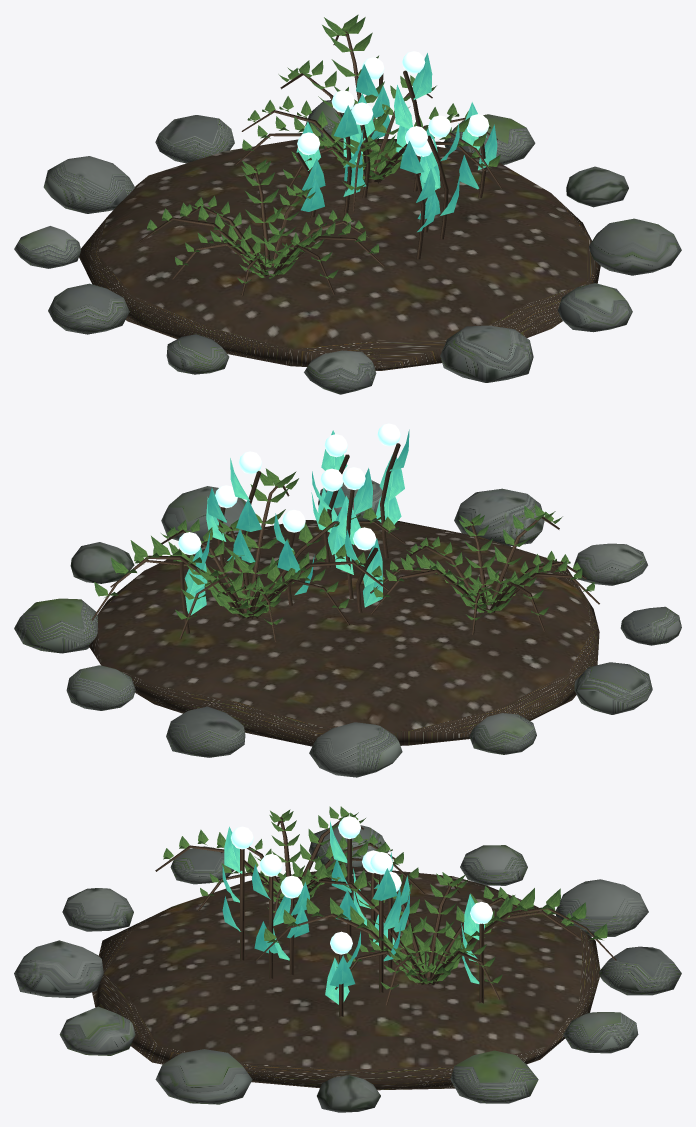
File: gather_herb_point.glb
3 renders of one model, top to bottom at view 1: azimuth 30°, elevation 25°; view 2: azimuth 150°, elevation 25°; view 3: azimuth 270°, elevation 25°, orthographic.
Visible parts, largest first — view 1: gather_herb_point__soil, gather_herb_point__stone_block, gather_herb_point__leaf, gather_herb_point__root, gather_herb_point__leaf_glow, gather_herb_point__glow_core; view 2: gather_herb_point__soil, gather_herb_point__stone_block, gather_herb_point__leaf, gather_herb_point__root, gather_herb_point__leaf_glow, gather_herb_point__glow_core; view 3: gather_herb_point__soil, gather_herb_point__stone_block, gather_herb_point__leaf, gather_herb_point__root, gather_herb_point__leaf_glow, gather_herb_point__glow_core.
Boxes of the visible parts, x1,y1,x2,y2 form: gather_herb_point__soil: (79,139,600,370); gather_herb_point__stone_block: (14,100,681,394); gather_herb_point__leaf: (147,14,500,283); gather_herb_point__root: (139,31,501,296); gather_herb_point__leaf_glow: (295,53,497,232); gather_herb_point__glow_core: (297,51,489,156); gather_herb_point__soil: (89,520,599,746); gather_herb_point__stone_block: (14,480,681,777); gather_herb_point__leaf: (94,468,594,624); gather_herb_point__root: (91,443,599,641); gather_herb_point__leaf_glow: (184,429,409,615); gather_herb_point__glow_core: (178,423,400,554); gather_herb_point__soil: (92,866,600,1090); gather_herb_point__stone_block: (14,825,681,1112); gather_herb_point__leaf: (163,806,607,989); gather_herb_point__root: (155,817,616,1016); gather_herb_point__leaf_glow: (222,821,484,1004); gather_herb_point__glow_core: (231,816,492,954).
Size of the model in its own units: 1.69 by 0.5211 by 1.73.
Materials: 6 (5 with a texture image).
